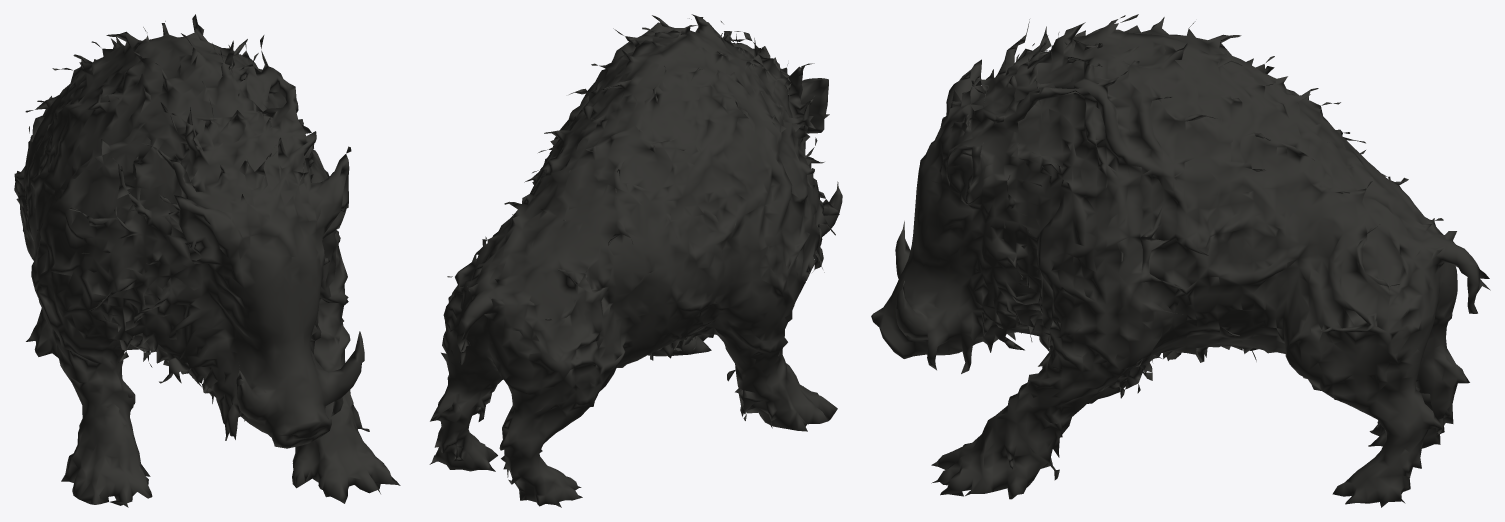
Rendered from razorback.glb.
The picture shows the model from 3 angles, left to right: view 1: azimuth 30°, elevation 25°; view 2: azimuth 150°, elevation 25°; view 3: azimuth 270°, elevation 25°; orthographic projection. The views are drawn at different scales.
Visible parts, largest first — view 1: reduced; view 2: reduced; view 3: reduced.
Part boxes in pixels (left/top/right/bottom): reduced: left=14, top=14, right=400, bottom=507; reduced: left=429, top=14, right=842, bottom=507; reduced: left=871, top=14, right=1490, bottom=507.
Bounding box in the file's own units: 0.9824 × 1.36 × 1.81.
1 material, 1 textured.
